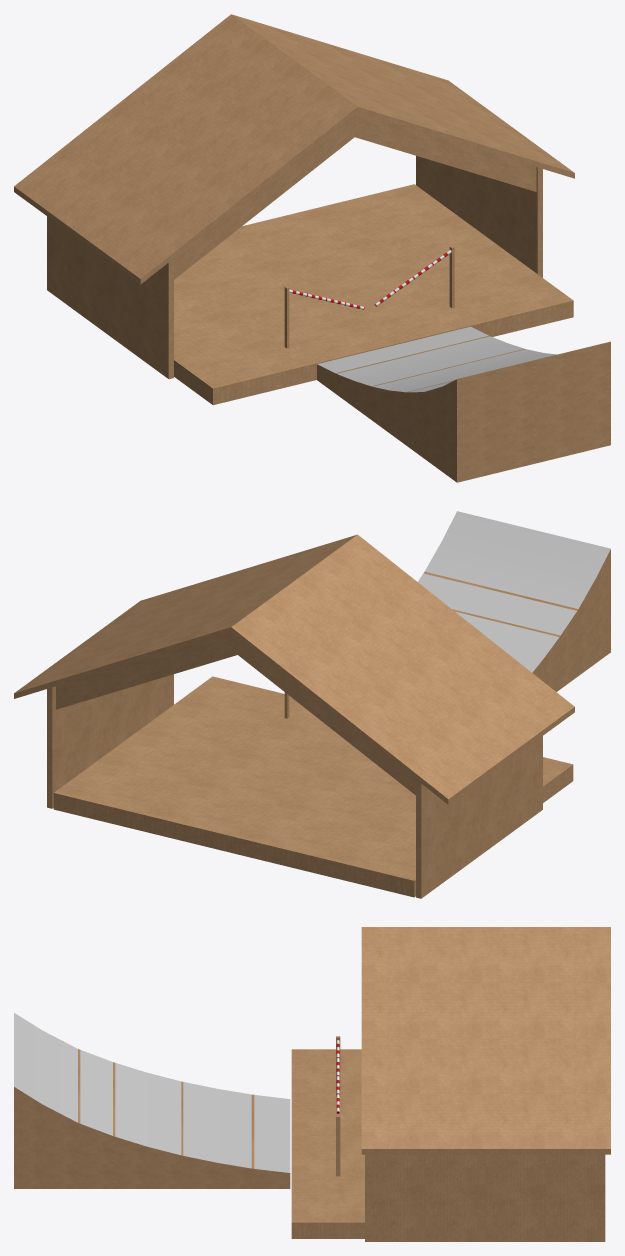
Rendered from DC_scene_TaiZi_mod_V001.fbx.
3 renders of one model, top to bottom at view 1: azimuth 30°, elevation 25°; view 2: azimuth 150°, elevation 25°; view 3: azimuth 270°, elevation 25°, orthographic.
Parts seen in each view (by area): view 1: fangzi, paodao; view 2: fangzi, paodao; view 3: fangzi, paodao.
Part boxes in pixels (x1,y1,x2,y2): fangzi: (14, 14, 574, 405); paodao: (317, 326, 610, 482); fangzi: (14, 534, 574, 898); paodao: (418, 511, 610, 691); fangzi: (291, 927, 610, 1241); paodao: (14, 1013, 290, 1188).
Size of the model in its own units: 2429 by 1221 by 2932.
